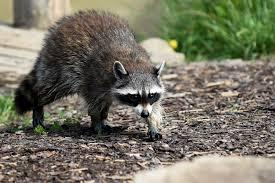raccoon: (13, 8, 164, 142)
